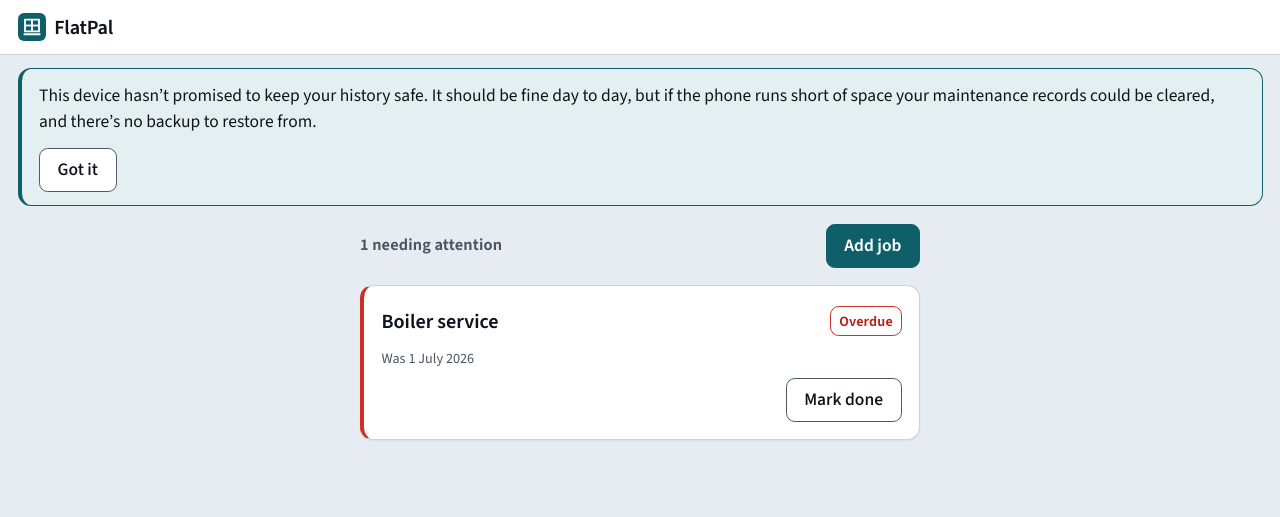
correcting a job › saves a new name, and the job carries it from then on
Click the button "Boiler service" at (440, 321), box [382, 299, 499, 343]
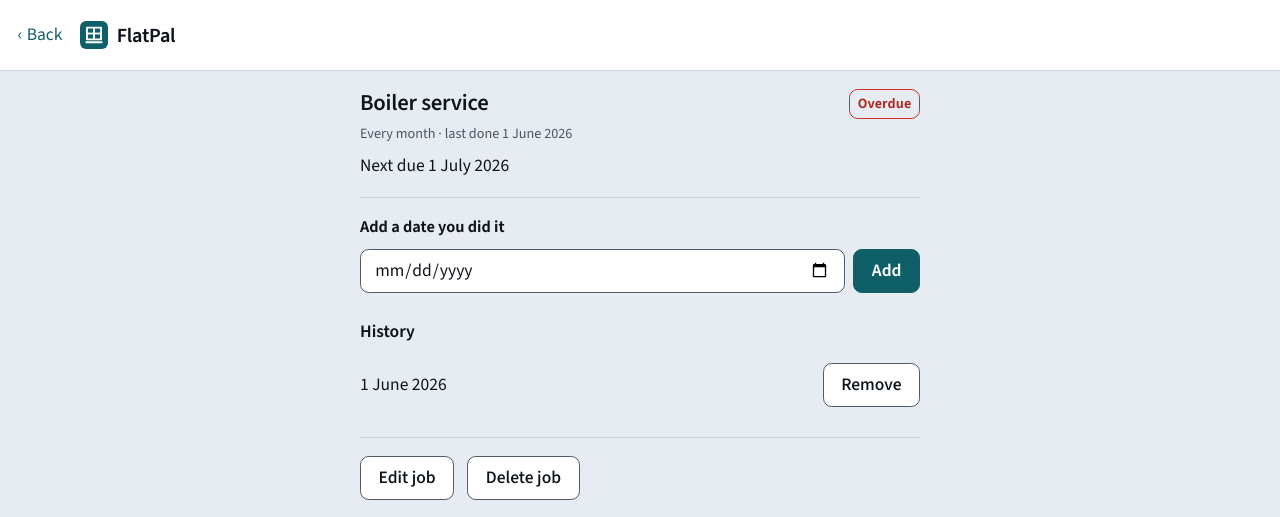
Click the button "Edit job" at (407, 478), box [360, 456, 454, 500]
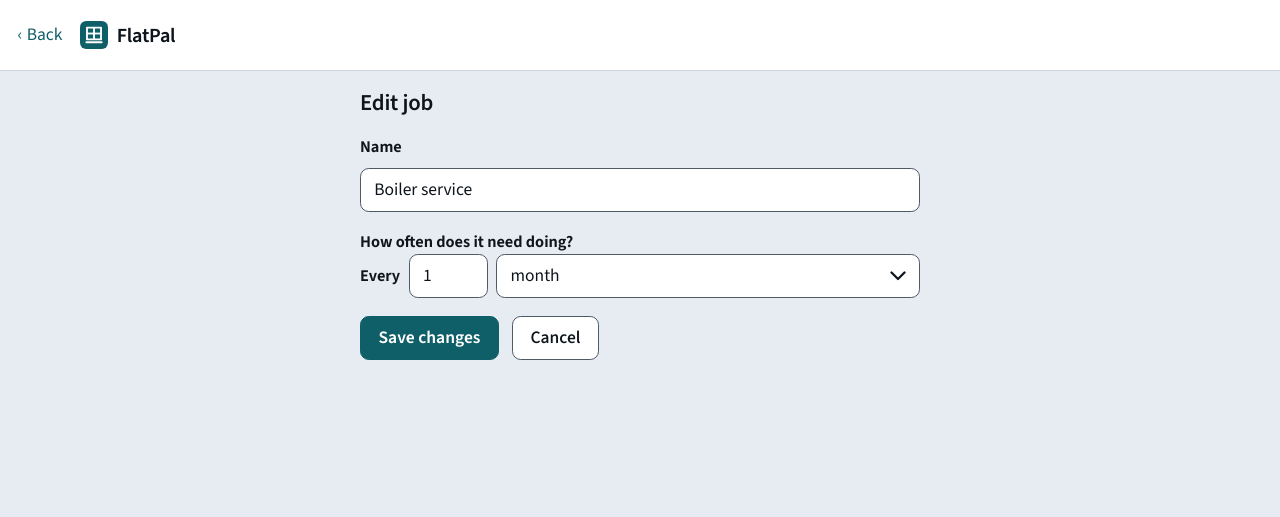
Check: the heading "Edit job" is shown, box [360, 87, 433, 119]
Replace the text in the field labelled "Name" with "Boiler service and flue check" at (640, 190), box [360, 168, 920, 212]
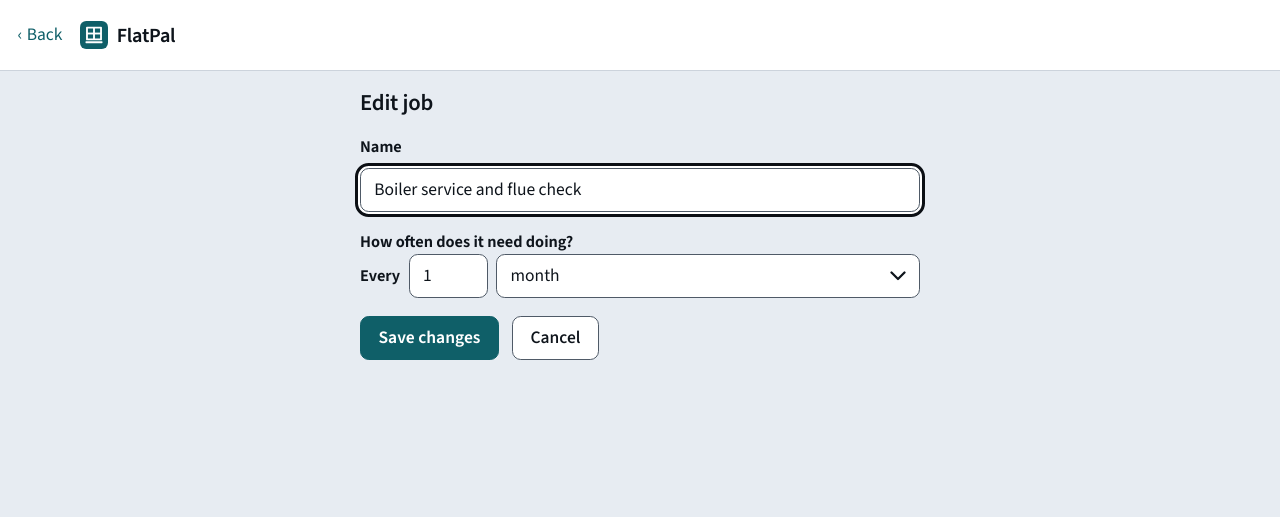
Click the button "Save changes" at (429, 338), box [360, 316, 499, 360]
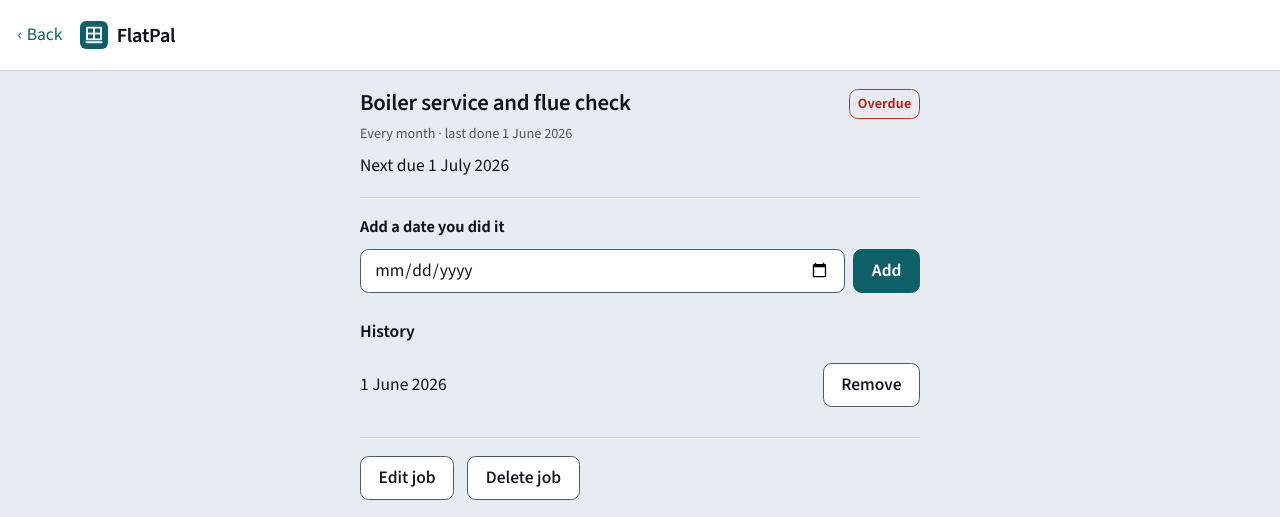
Check: the heading "Boiler service and flue check" is shown, box [360, 90, 631, 118]
